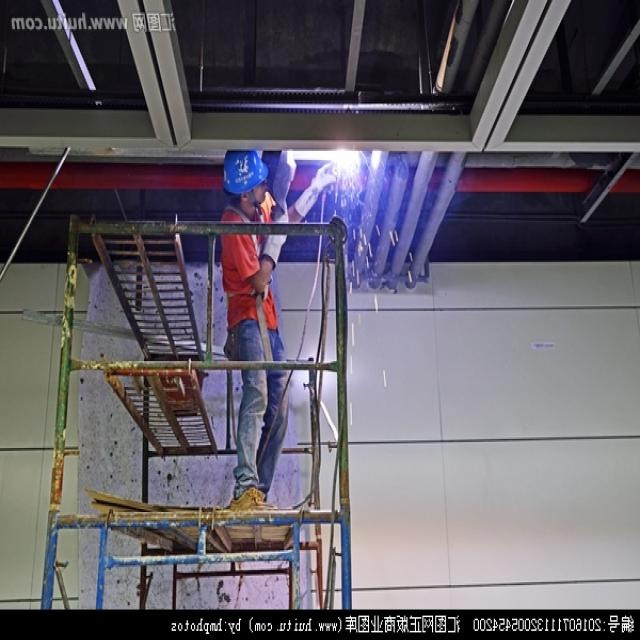Con_Casco: (223, 149, 266, 210)
